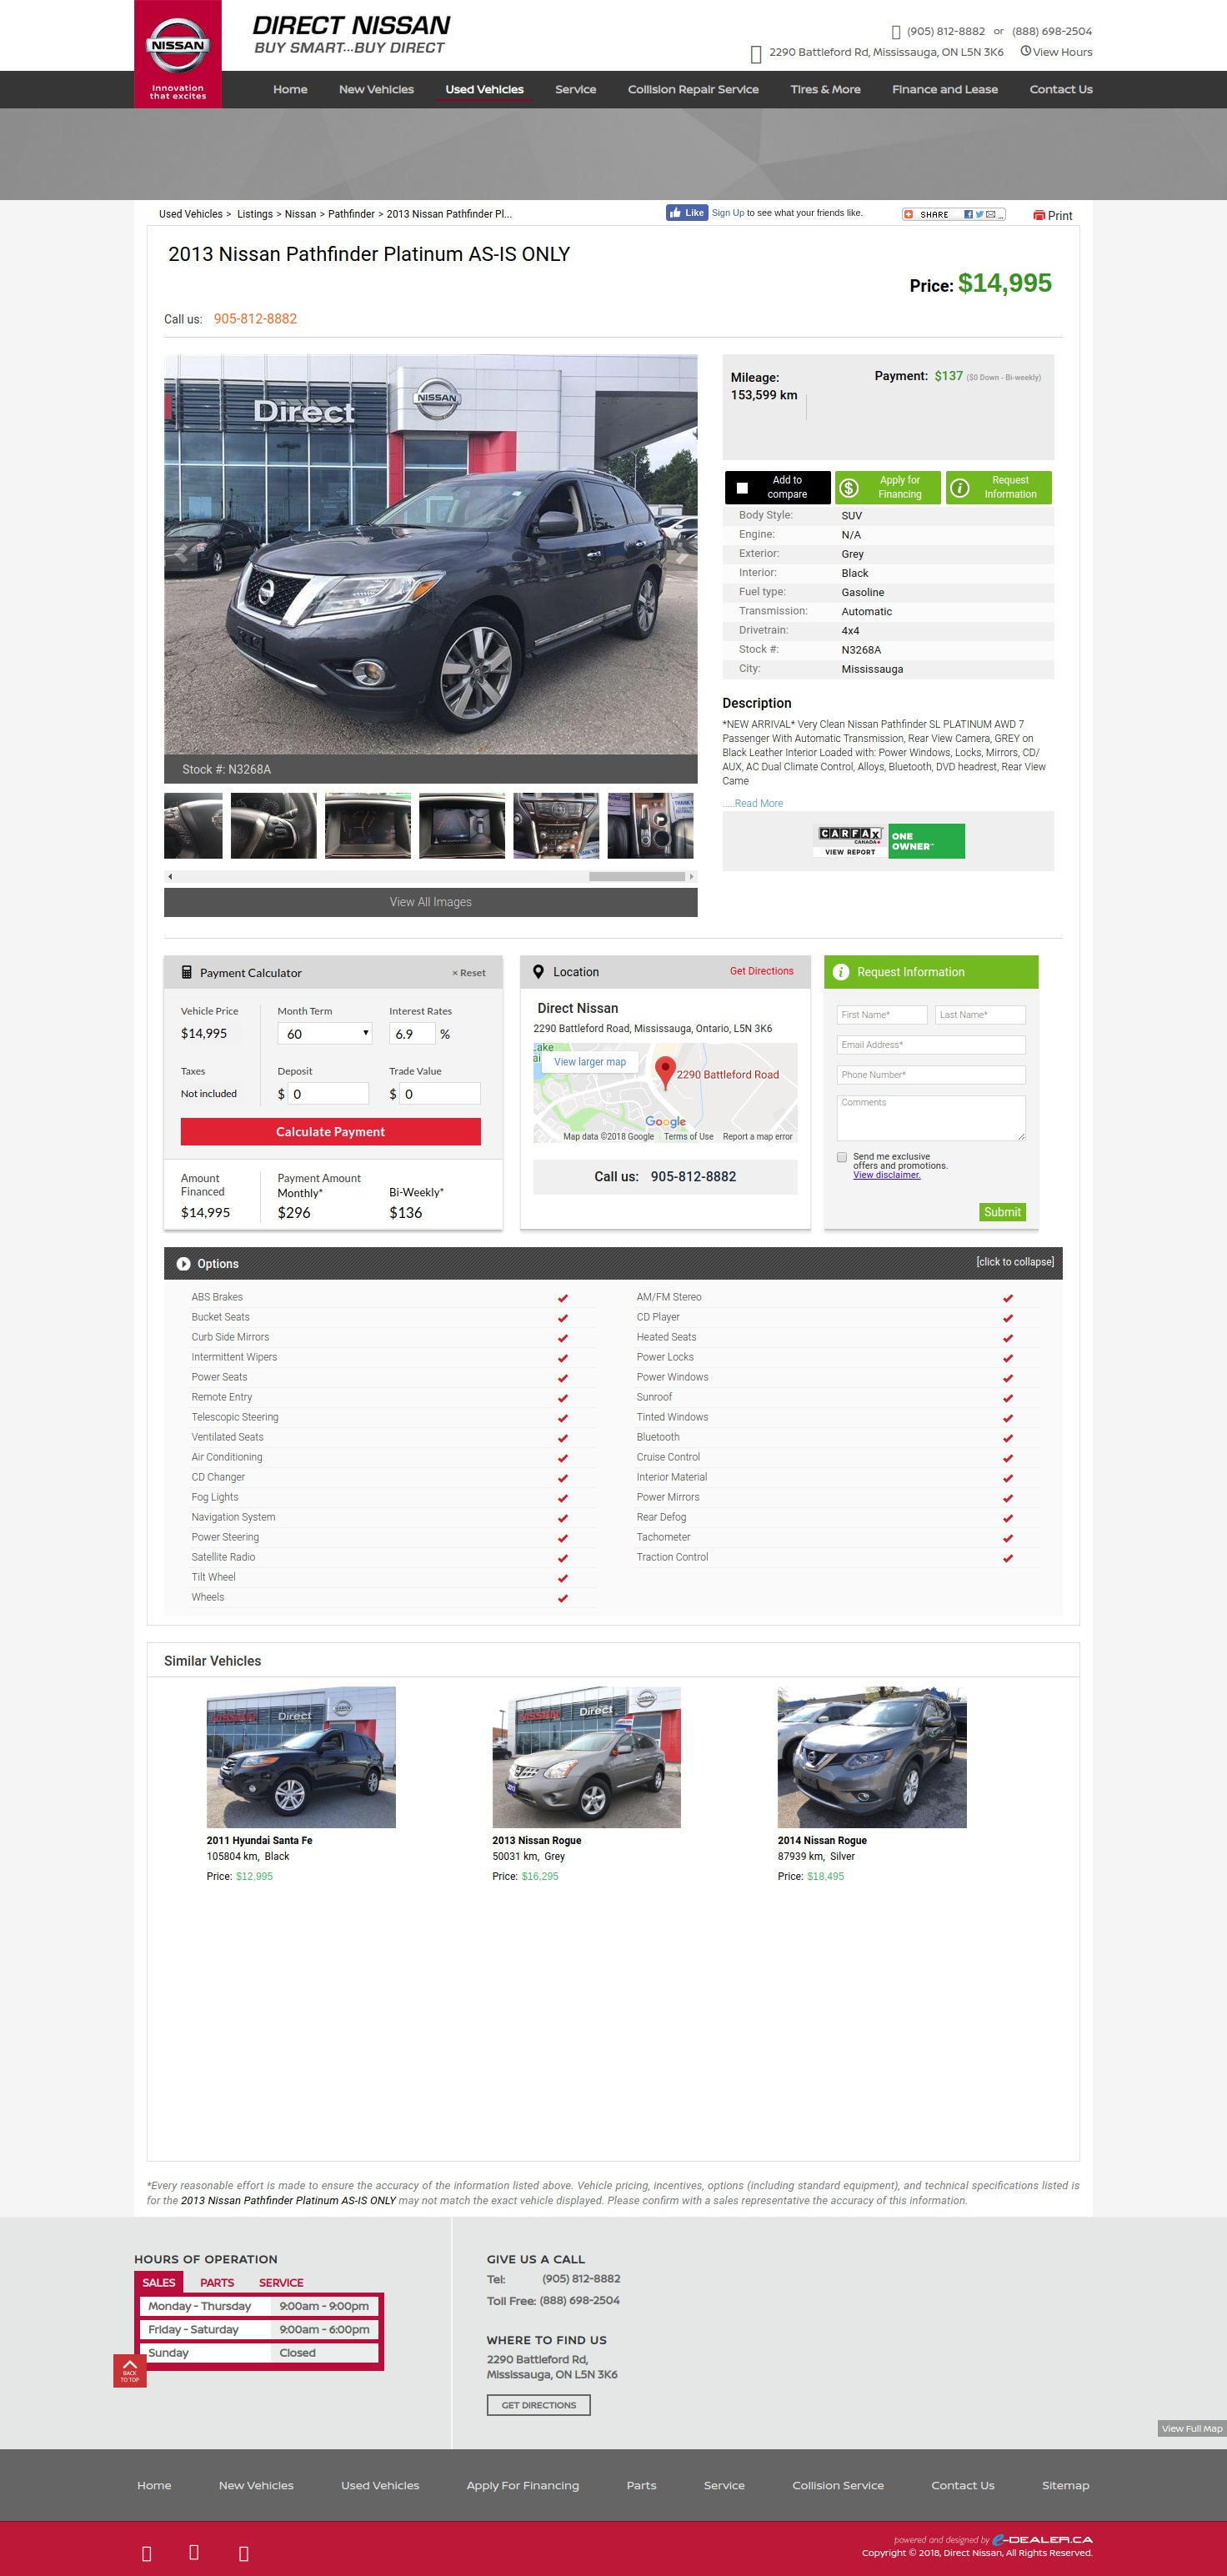car: (664, 537, 700, 573)
